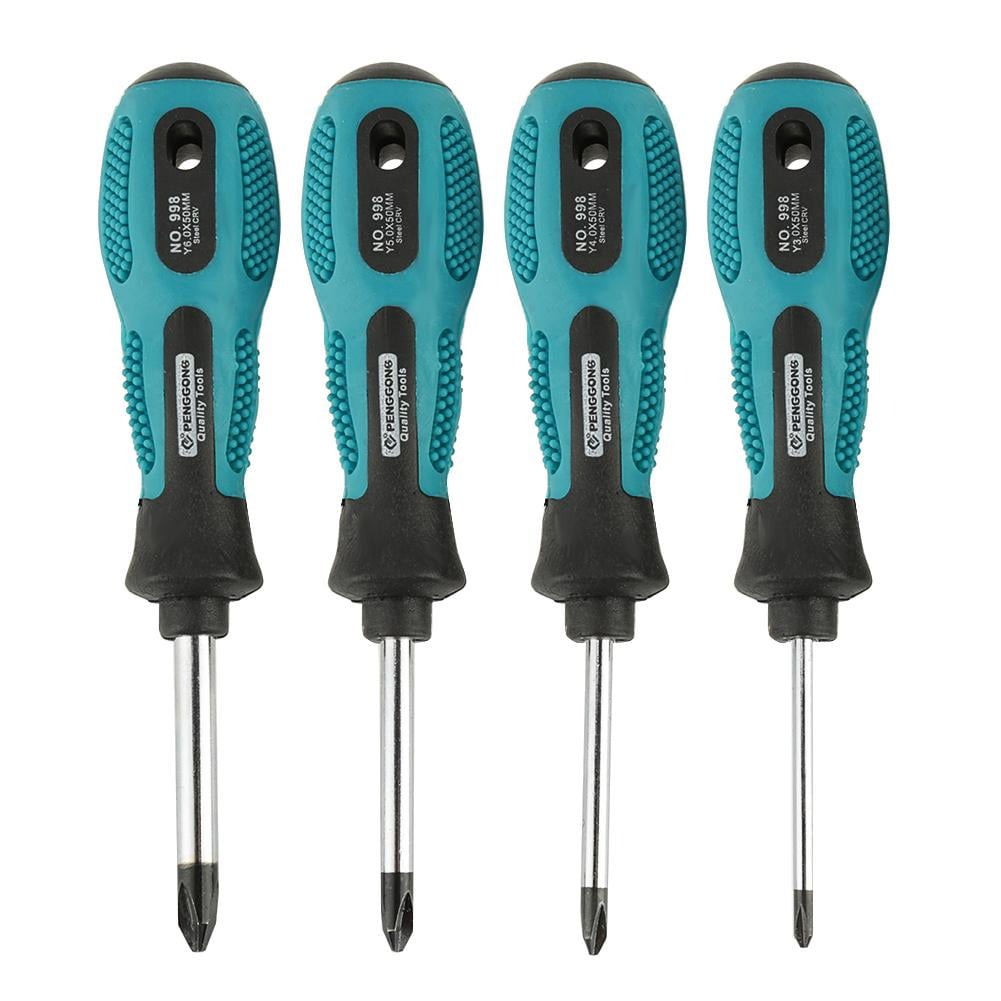screwdriver: (299, 58, 485, 954), (705, 60, 891, 950), (503, 62, 686, 955), (99, 63, 282, 950)
